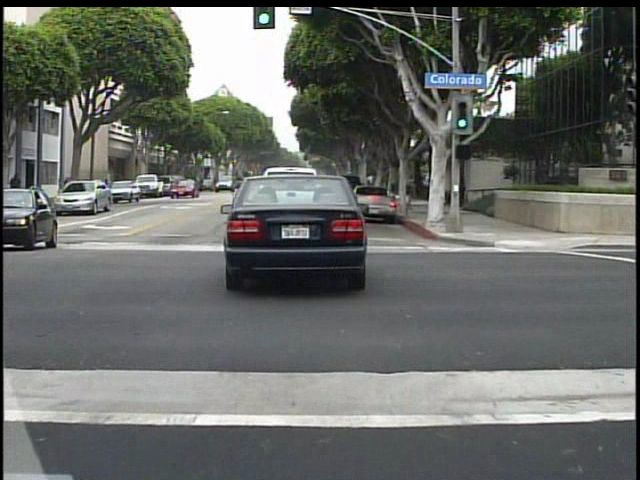person: (10, 169, 28, 209)
